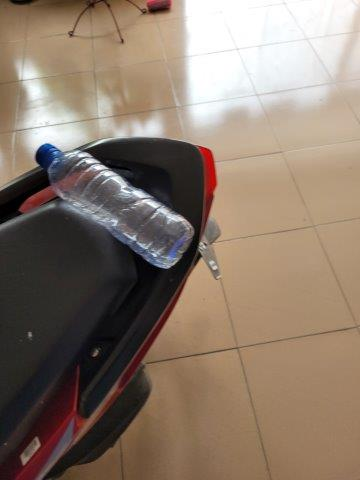botolplastik: (33, 143, 196, 269)
